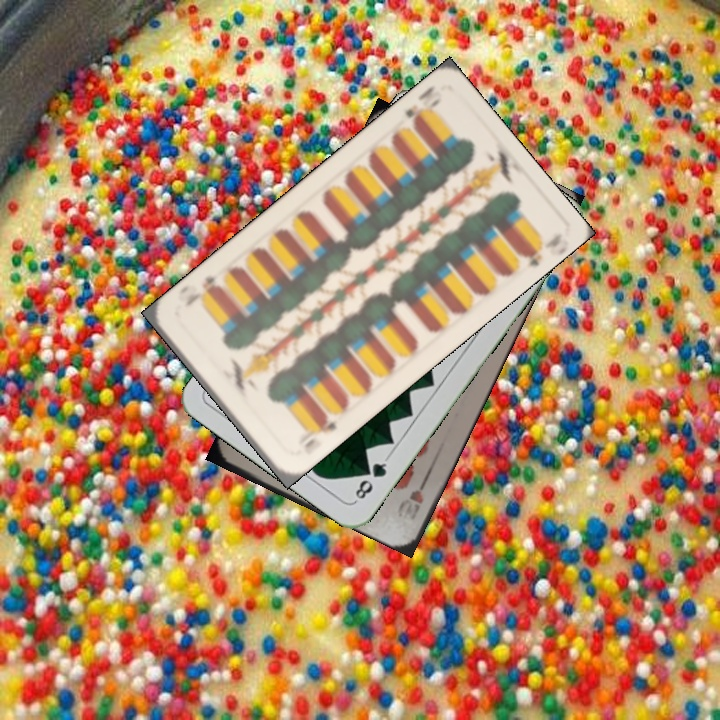E10: (401, 81, 445, 131), (294, 411, 340, 451)
G8: (351, 453, 391, 504)
H10: (402, 470, 432, 523)
